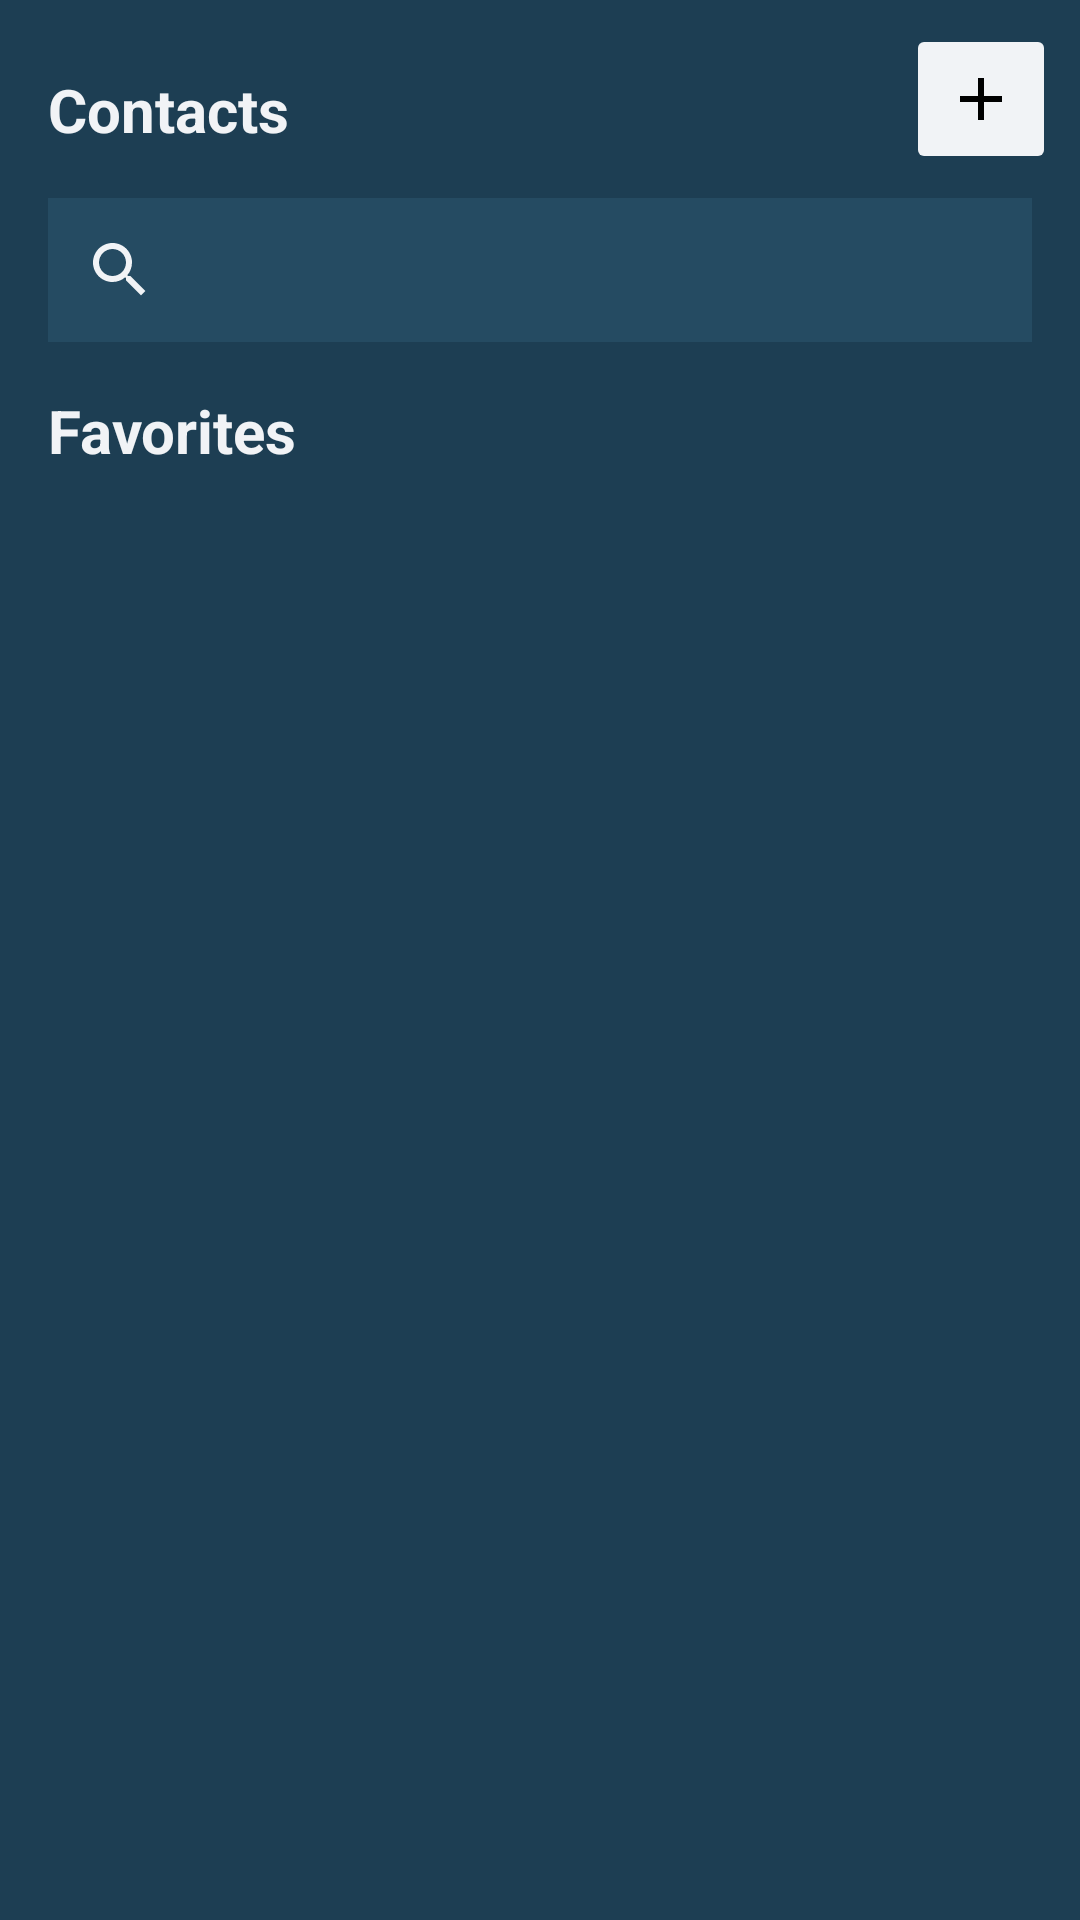

Screen size 1080px x 1920px. Icon name, then its box in pixels as Rect(x1, y1, x2, y2):
add: Rect(918, 42, 1044, 156)
